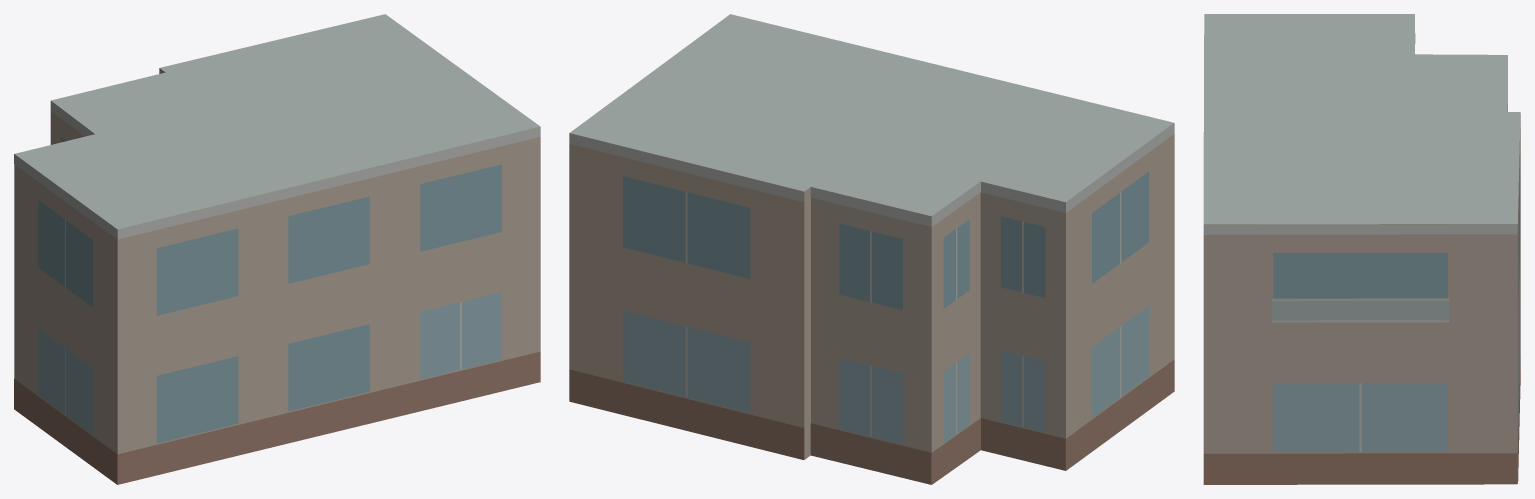
The model's file is survey-upis-32594979.glb.
3 renders of one model, left to right at view 1: azimuth 30°, elevation 25°; view 2: azimuth 150°, elevation 25°; view 3: azimuth 270°, elevation 25°, orthographic. The views are drawn at different scales.
Parts seen in each view (by area): view 1: survey-upis-32594979.tmp; view 2: survey-upis-32594979.tmp; view 3: survey-upis-32594979.tmp.
Part boxes in pixels (<box>): survey-upis-32594979.tmp: <box>14,14,540,484</box>; survey-upis-32594979.tmp: <box>569,14,1174,484</box>; survey-upis-32594979.tmp: <box>1203,14,1520,484</box>.
Bounding box in the file's own units: 10.61 × 6.1 × 6.74.
